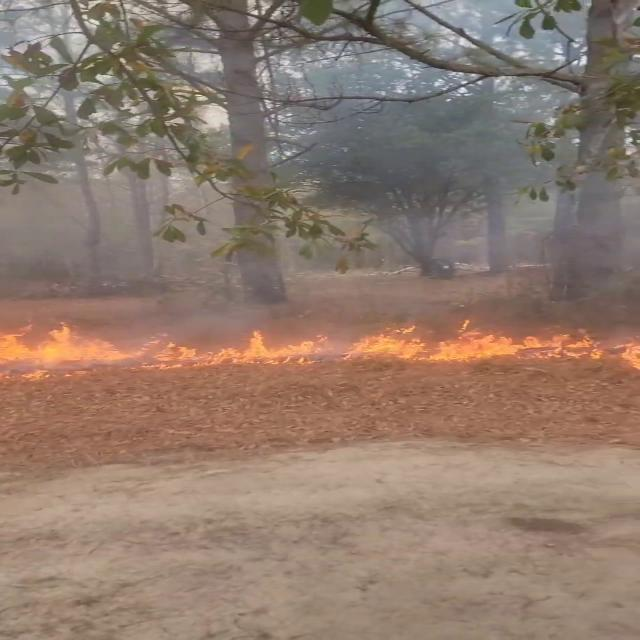Fire: (3, 312, 637, 364)
Smoke: (1, 63, 627, 309)
